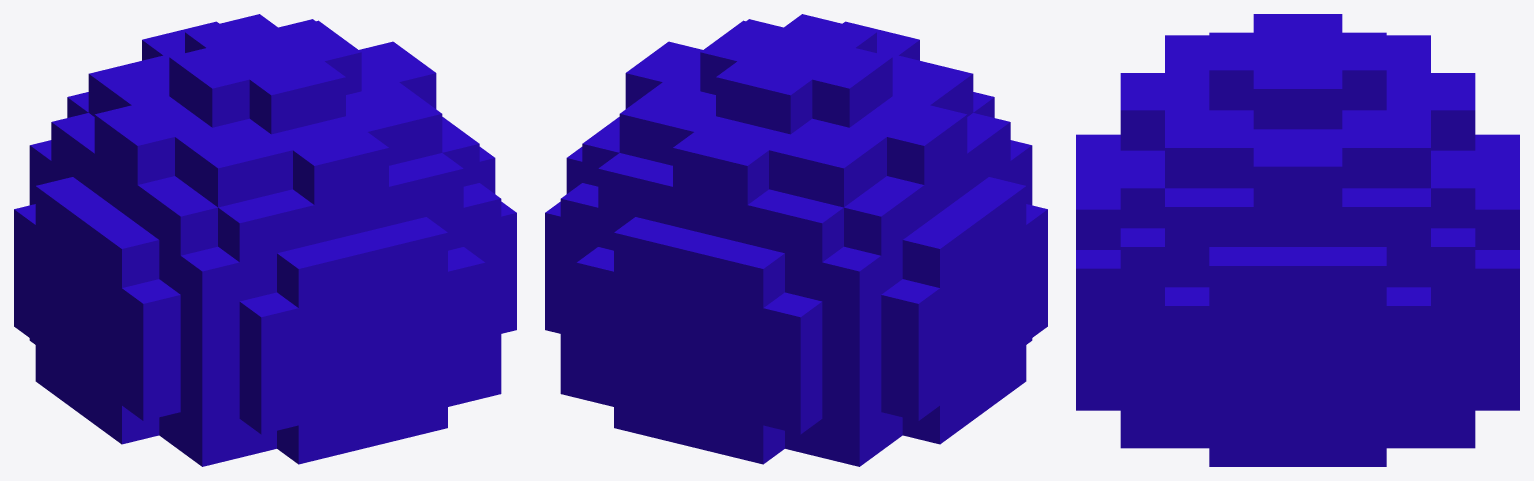
Rendered from Slimy Boy.glb.
The picture shows the model from 3 angles, left to right: view 1: azimuth 30°, elevation 25°; view 2: azimuth 150°, elevation 25°; view 3: azimuth 270°, elevation 25°; orthographic projection. The views are drawn at different scales.
Visible parts, largest first — view 1: Slimy Boy; view 2: Slimy Boy; view 3: Slimy Boy.
Part boxes in pixels (x1,y1,x2,y2): Slimy Boy: (14,14,516,466); Slimy Boy: (545,14,1047,466); Slimy Boy: (1076,14,1519,466).
Size of the model in its own units: 1 by 0.8 by 1.
